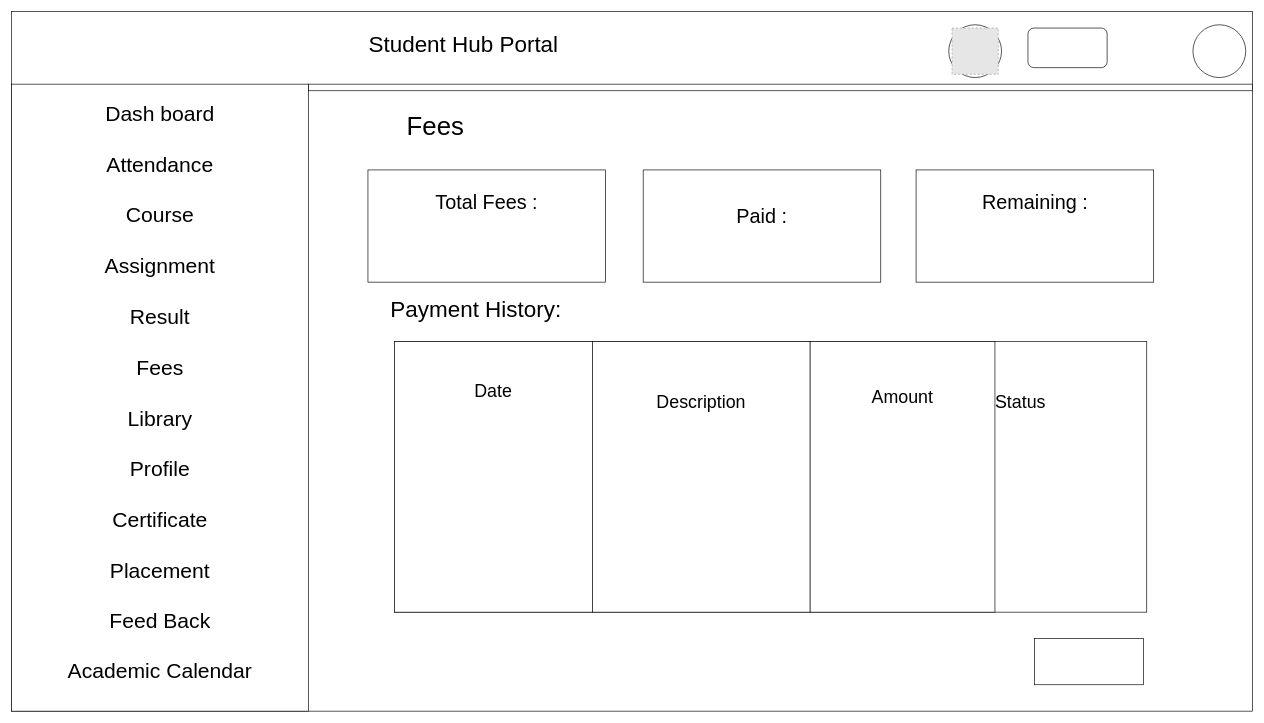
Some shapes in this 1264 by 723 pixel diagram are drawn without their labels. Grey dashed boxes stand in for pictures. Each missing label, with the centre of its shape:
"Name" belongs at [1067,47].
"Pay Now" belongs at [1088,661].
"Setting" belongs at [1219,51].
